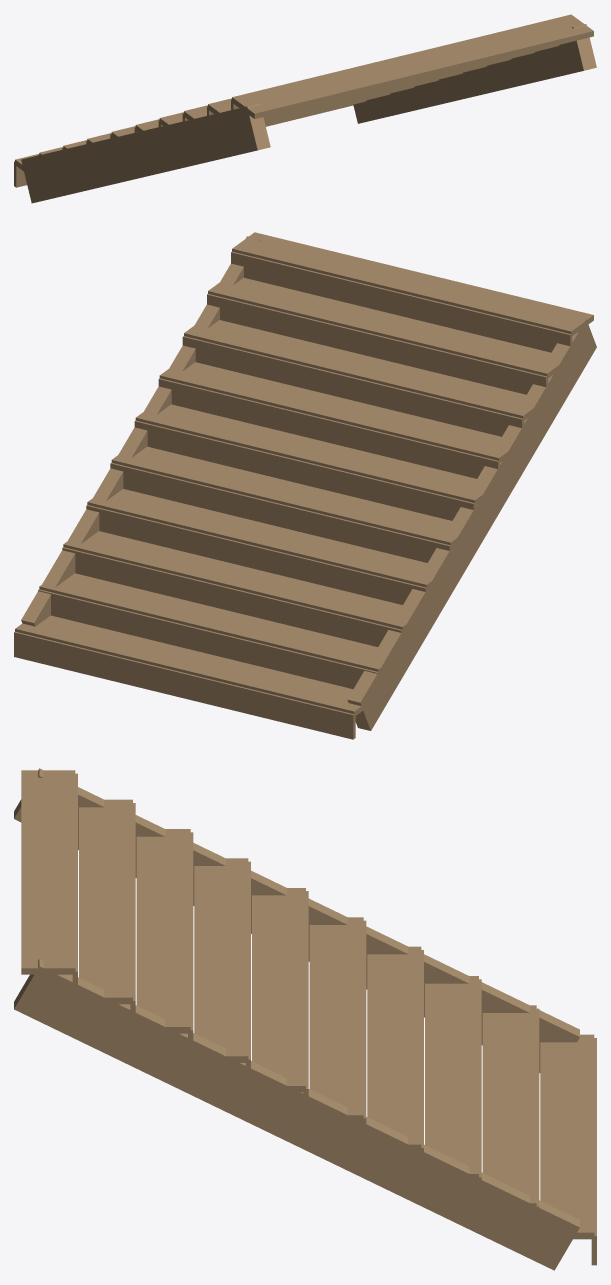
Rendered from SM_P2_Stairwell_Flight_A.obj.
The picture shows the model from 3 angles, top to bottom: view 1: azimuth 30°, elevation 25°; view 2: azimuth 150°, elevation 25°; view 3: azimuth 270°, elevation 25°; orthographic projection. The views are drawn at different scales.
Visible parts, largest first — view 1: stringer_l, tread_9, stringer_r, riser_9, riser_8, tread_8, riser_7, tread_7, tread_6, riser_6, tread_5, riser_0 (+6 smaller); view 2: stringer_l, riser_0, tread_9, tread_8, tread_7, tread_5, tread_4, tread_6, tread_0, tread_3, tread_2, tread_1 (+10 smaller); view 3: stringer_r, tread_9, tread_7, tread_8, tread_6, tread_4, tread_5, tread_3, tread_0, tread_1, tread_2, stringer_l (+10 smaller).
Boxes of the visible parts, x1,y1,x2,y2 form: stringer_l: (21,103,270,203); tread_9: (232,14,593,118); stringer_r: (353,24,596,123); riser_9: (231,45,559,124); riser_8: (207,52,535,131); tread_8: (208,46,555,125); riser_7: (182,59,511,138); tread_7: (184,53,532,131); tread_6: (159,60,506,138); riser_6: (158,66,486,145); tread_5: (135,67,483,146); riser_0: (14,105,353,187); stringer_l: (347,315,596,730); riser_0: (14,631,355,739); tread_9: (232,232,593,335); tread_8: (208,277,565,378); tread_7: (184,320,543,421); tread_5: (135,404,497,505); tread_4: (111,446,473,547); tread_6: (159,362,510,462); tread_0: (15,615,376,716); tread_3: (87,489,449,589); tread_2: (63,531,425,631); tread_1: (39,573,400,671); stringer_r: (14,958,579,1270); tread_9: (21,770,75,974); tread_7: (136,829,190,1033); tread_8: (79,799,132,1004); tread_6: (194,858,248,1062); tread_4: (309,917,363,1121); tread_5: (252,888,305,1092); tread_3: (367,946,421,1150); tread_0: (540,1034,594,1239); tread_1: (482,1005,536,1209); tread_2: (425,976,478,1180); stringer_l: (14,768,579,1072).
Bounding box in the file's own units: 2.6 × 1.86 × 3.24.
